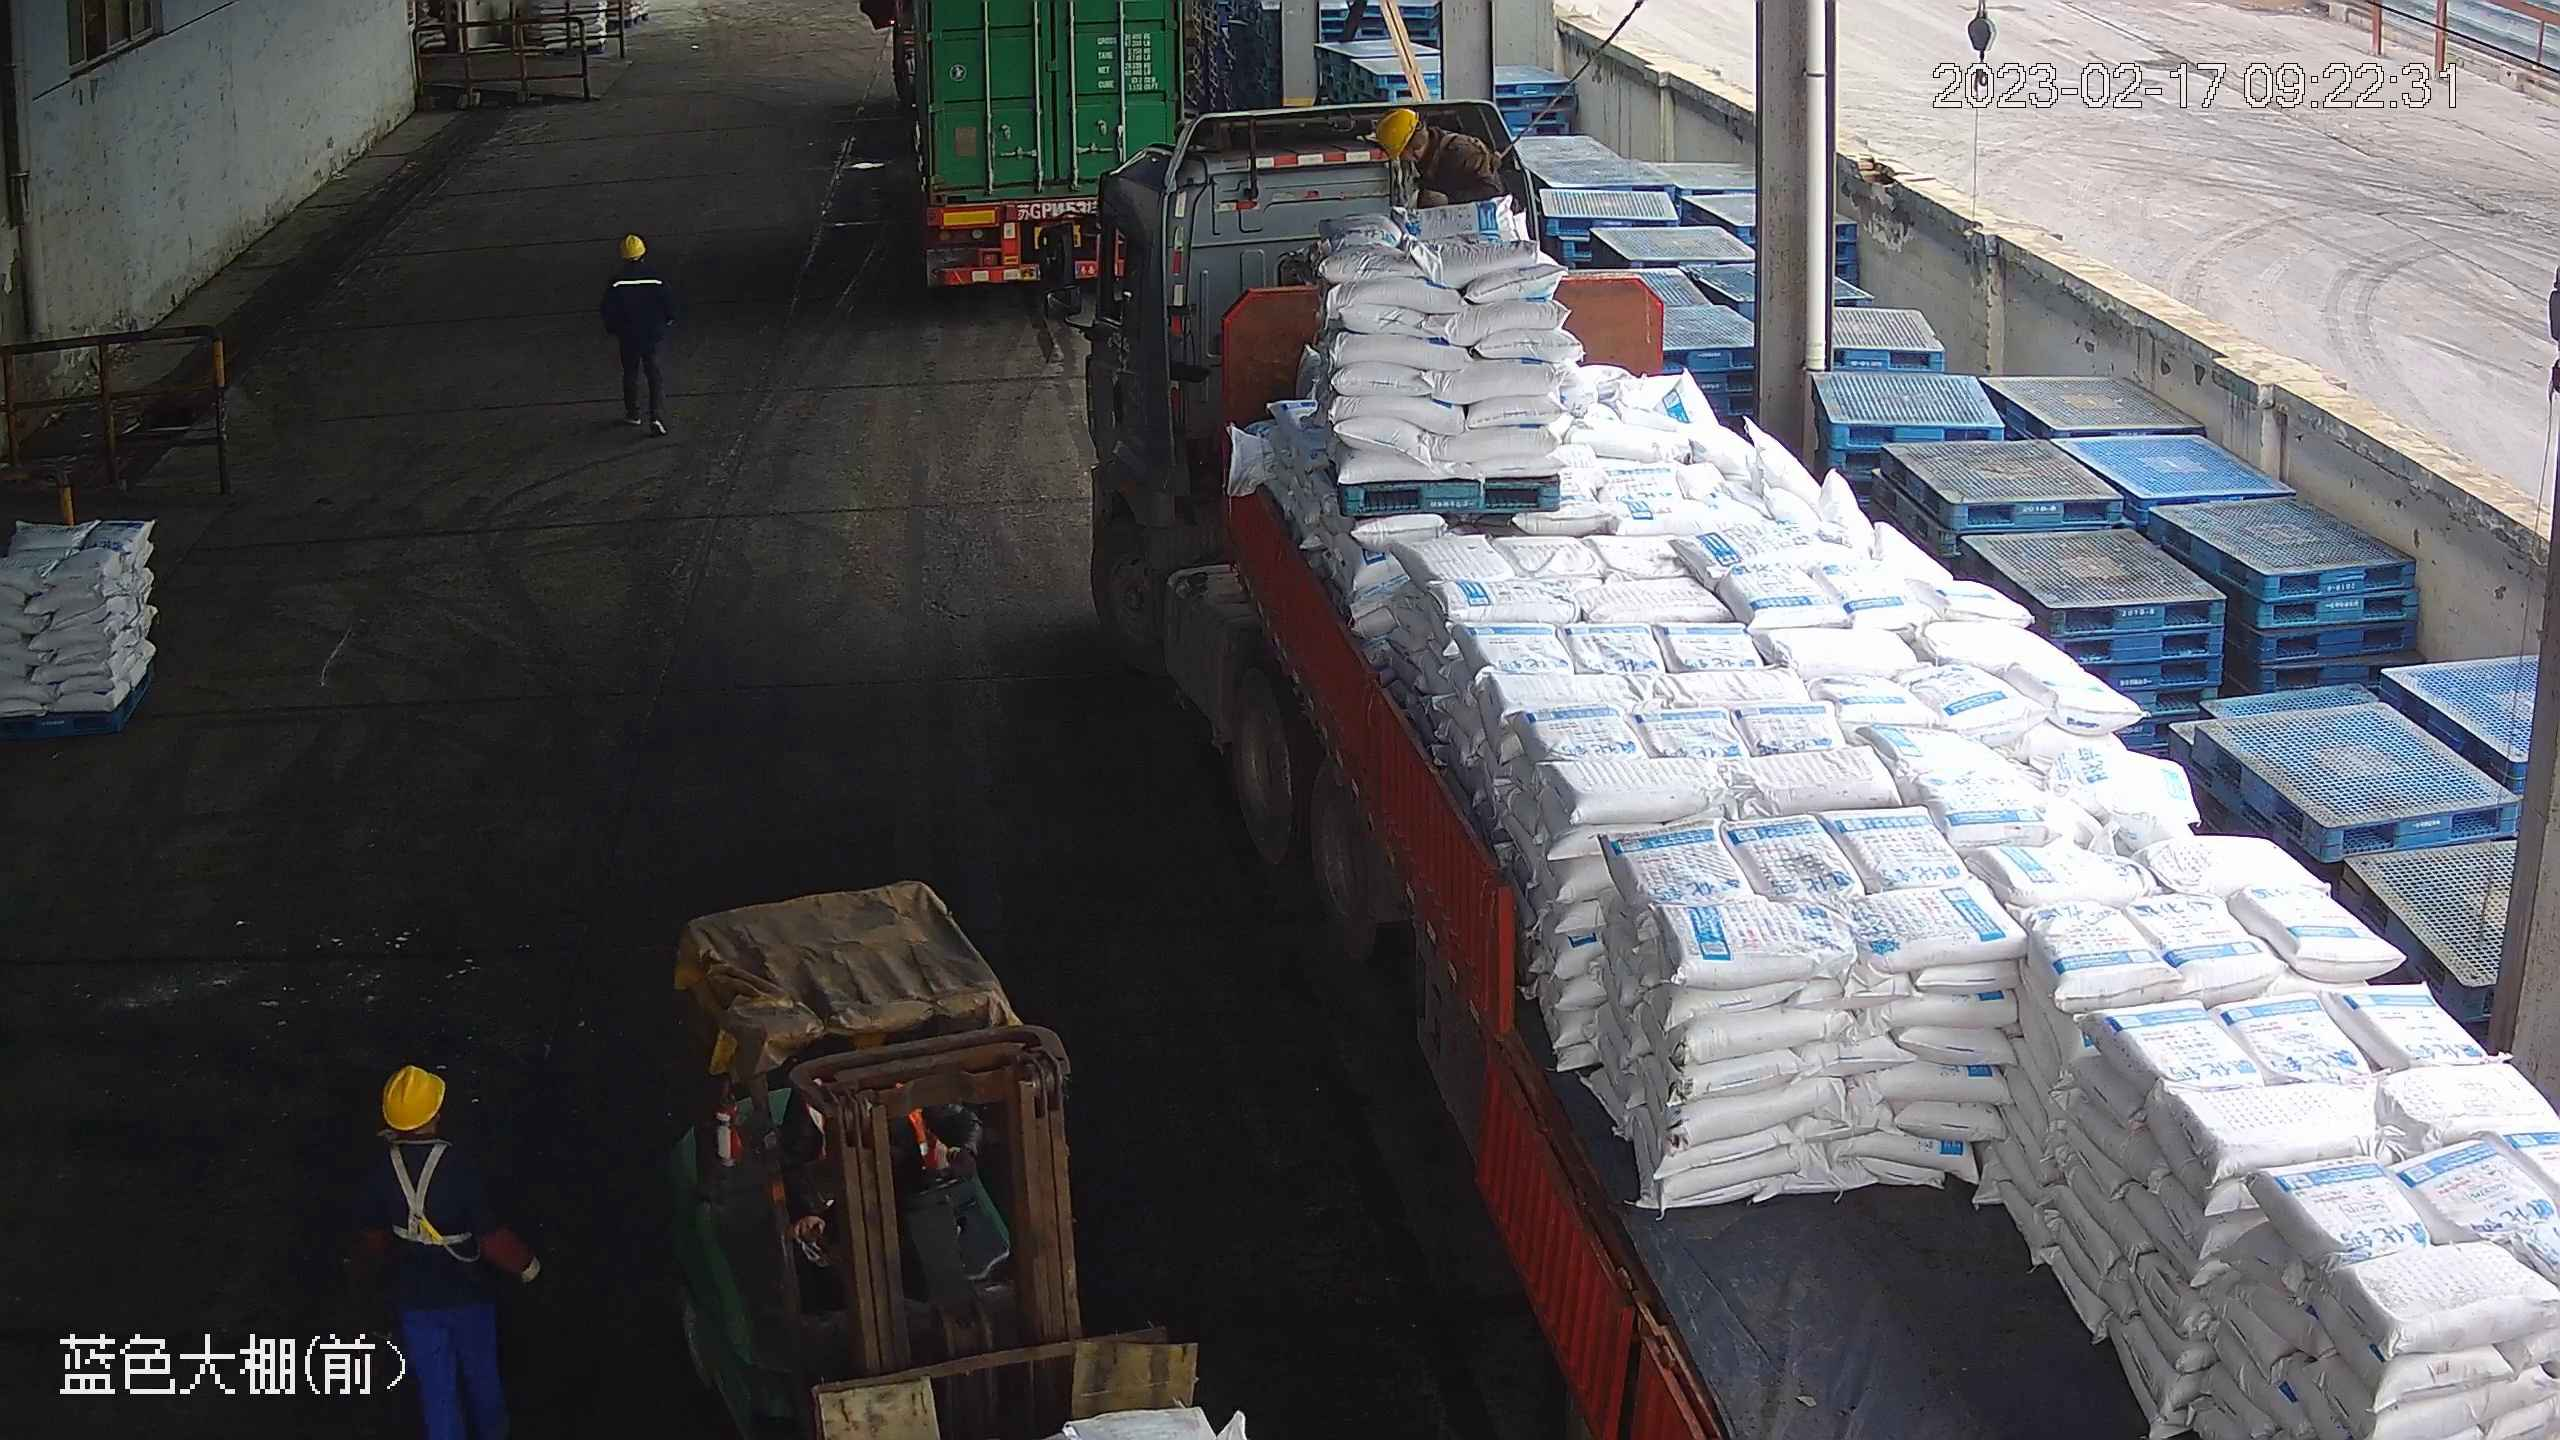belt: (377, 1137, 475, 1250), (1421, 129, 1476, 184)
head: (369, 1061, 494, 1194), (1377, 107, 1465, 174), (604, 234, 670, 288)
helmet: (380, 1062, 446, 1132), (1378, 110, 1419, 156), (619, 232, 648, 257)
people: (360, 1061, 539, 1440), (597, 231, 677, 433)
truck: (1046, 98, 2553, 1440), (884, 1, 1186, 289)
